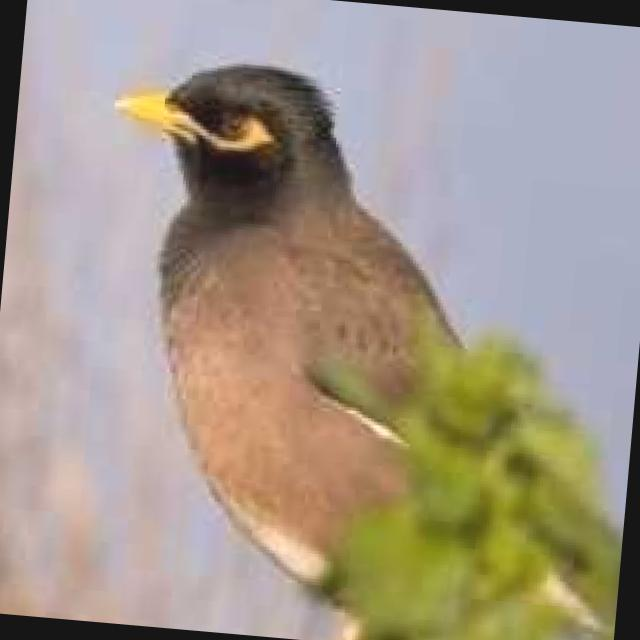bird: (62, 41, 593, 637)
